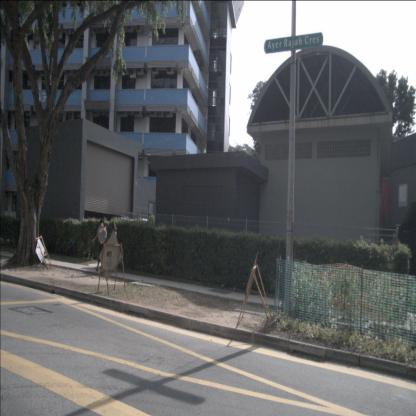human-pedestrian-adult: (92, 218, 107, 272), (109, 221, 119, 273)
